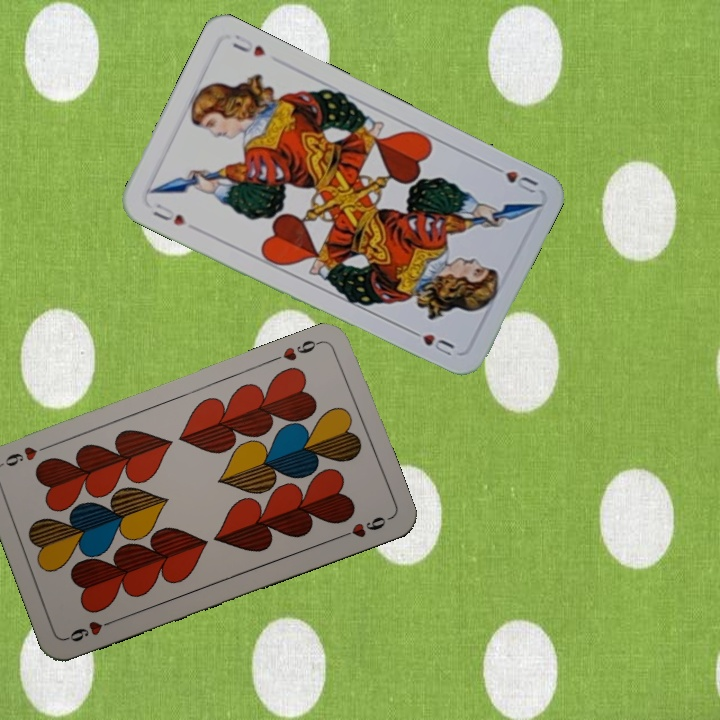H9: (63, 614, 120, 645), (269, 336, 326, 364)
HU: (486, 160, 542, 196), (148, 199, 190, 229)
